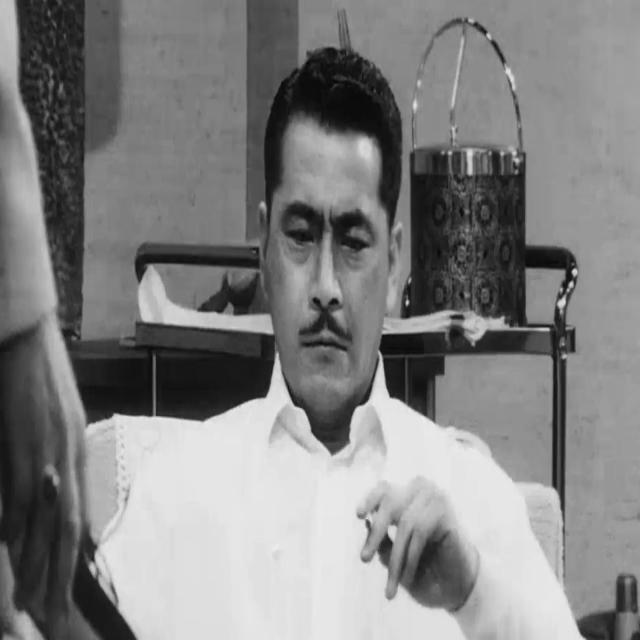Smooking: (362, 502, 376, 532)
